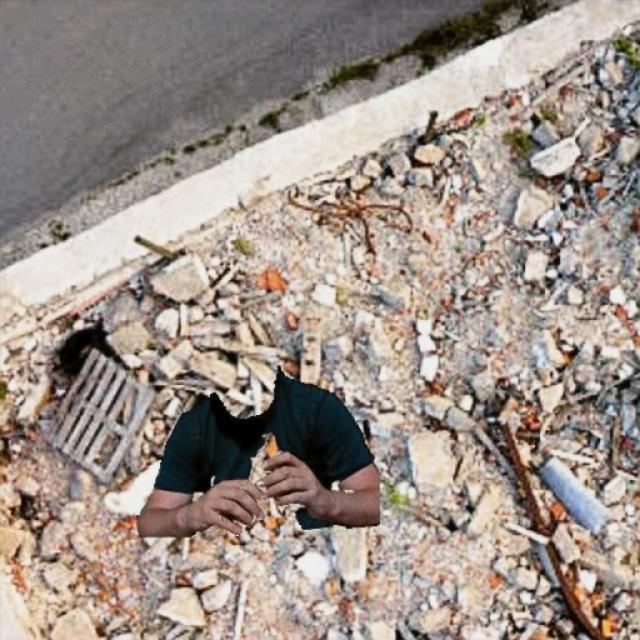Person in Rubble: (136, 366, 379, 536)
